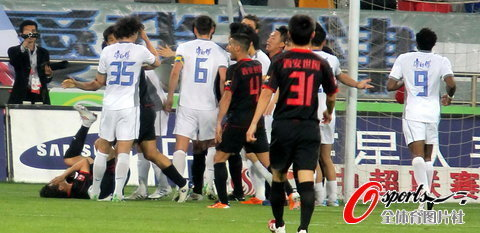10+: (1, 1, 480, 232)
down: (35, 96, 137, 207)
